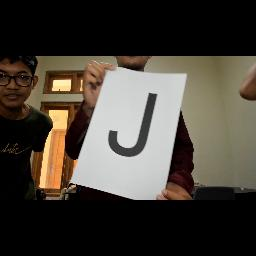j: (106, 89, 160, 167)
